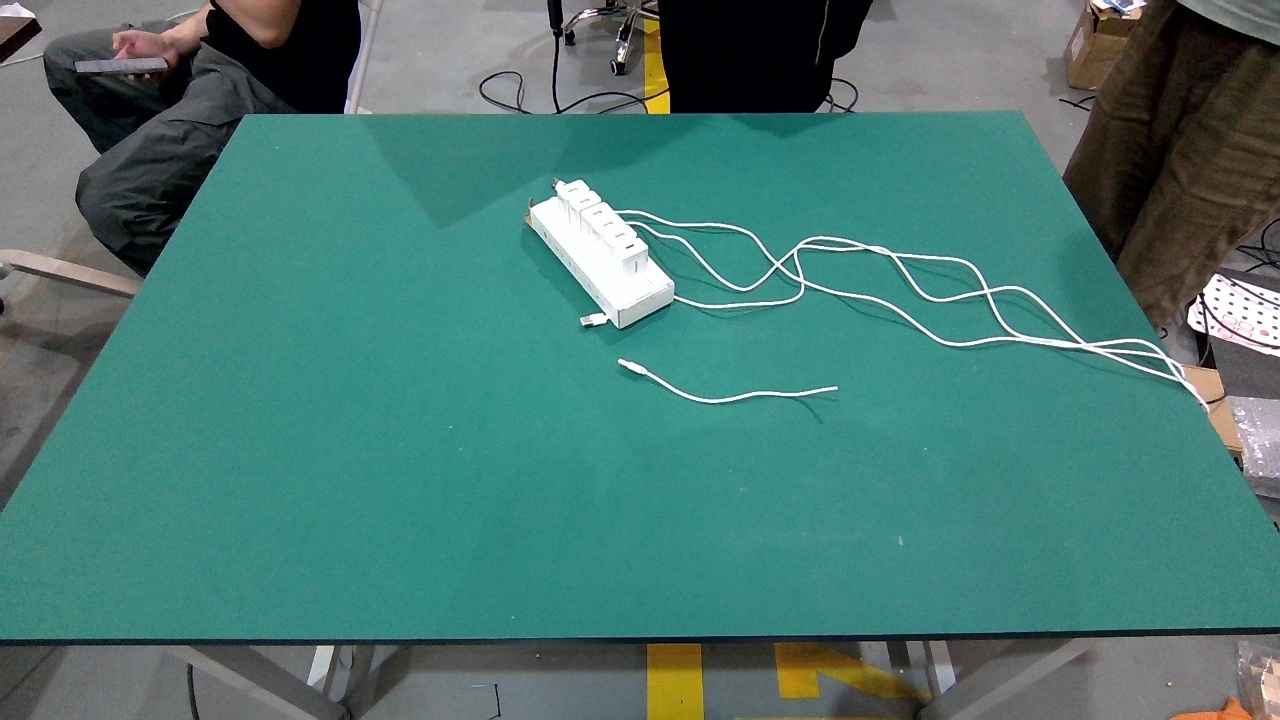usb_a_port: (602, 221, 614, 227), (579, 198, 592, 203), (567, 187, 579, 192), (592, 210, 603, 215), (615, 233, 626, 238), (626, 244, 635, 250)
